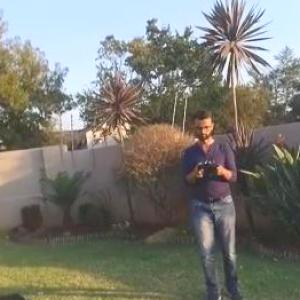follow: (181, 104, 248, 299)
